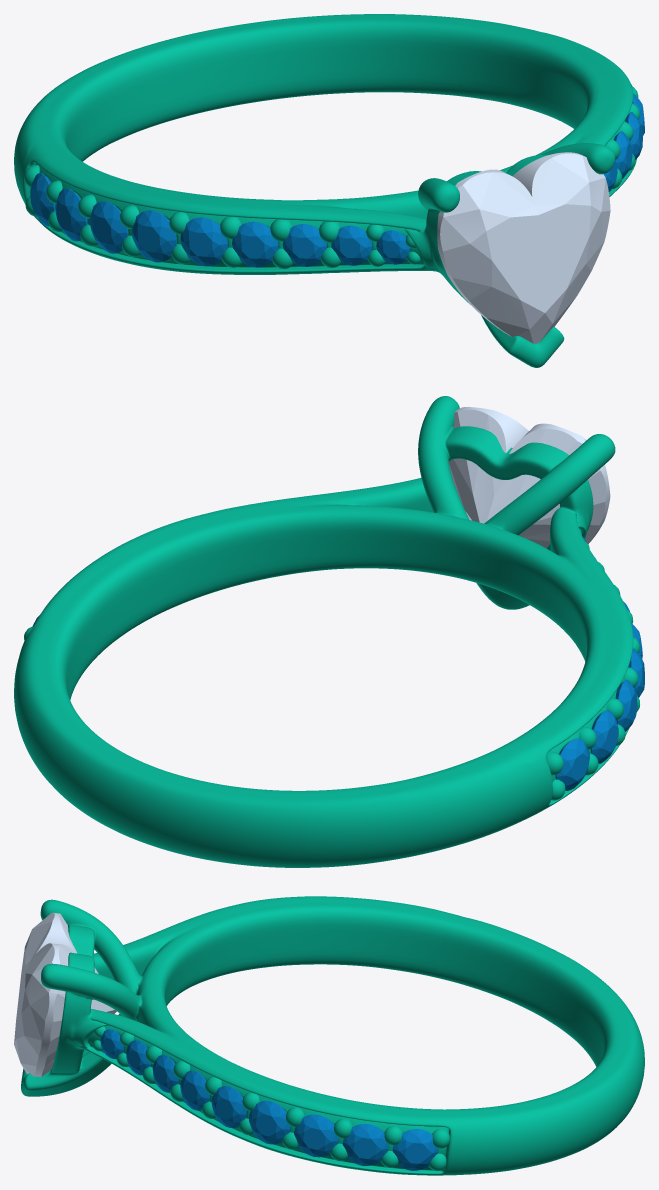
3 renders of one model, top to bottom at view 1: azimuth 30°, elevation 25°; view 2: azimuth 150°, elevation 25°; view 3: azimuth 270°, elevation 25°, orthographic. The views are drawn at different scales.
Parts seen in each view (by area): view 1: FOR RENDER.3dm, Diamond_Heart, Diamond_Round (×10); view 2: FOR RENDER.3dm, Diamond_Heart, Diamond_Round (×3); view 3: FOR RENDER.3dm, Diamond_Round (×9), Diamond_Heart.
Boxes of the visible parts, <box> form: FOR RENDER.3dm: <box>14,14,636,367</box>; Diamond_Heart: <box>437,152,610,343</box>; Diamond_Round (×10): <box>30,131,632,267</box>; FOR RENDER.3dm: <box>14,396,633,867</box>; Diamond_Heart: <box>448,407,610,548</box>; Diamond_Round (×3): <box>555,680,637,790</box>; FOR RENDER.3dm: <box>21,896,644,1175</box>; Diamond_Round (×9): <box>100,1029,438,1170</box>; Diamond_Heart: <box>14,912,116,1076</box>.
Size of the model in its own units: 2.54 by 0.8494 by 2.97.
